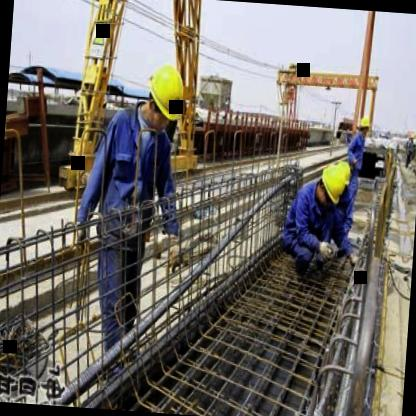helmet: (142, 56, 191, 134), (316, 156, 352, 204), (356, 112, 373, 139)
